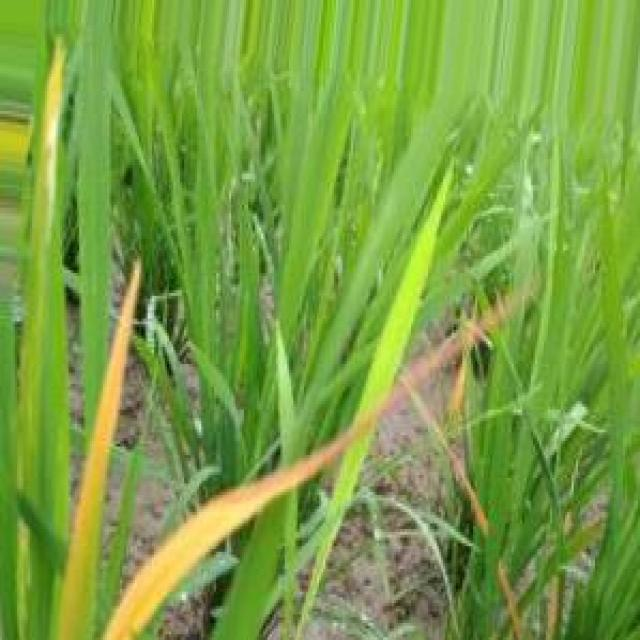Rice Tungro: (104, 413, 377, 639), (56, 259, 141, 639), (410, 390, 490, 534)
